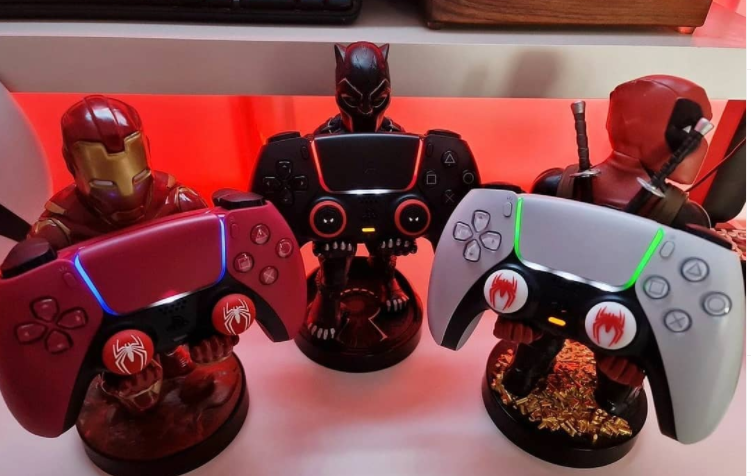gamingconsole: (431, 188, 735, 446), (4, 193, 310, 425)
